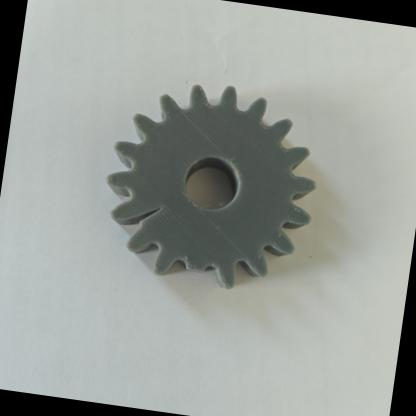defect: (99, 182, 170, 258), (172, 247, 228, 300)
gear: (70, 64, 354, 332)
